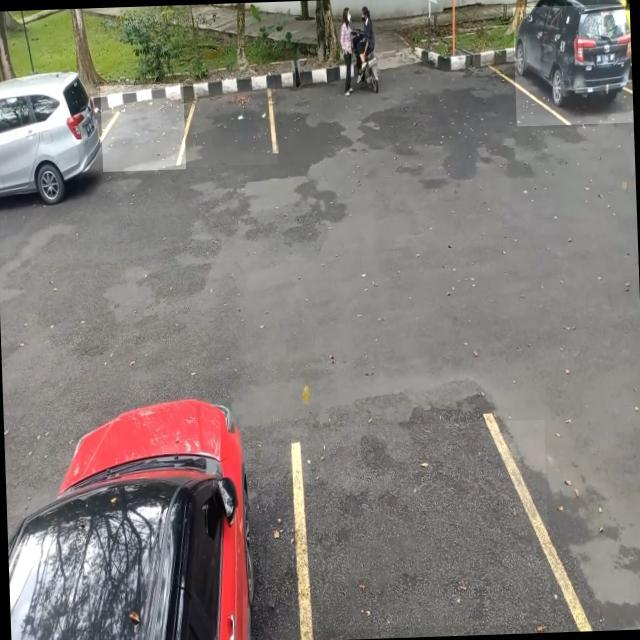empty: (290, 419, 550, 631), (183, 76, 278, 166), (100, 82, 186, 172)
occupied: (512, 3, 633, 126)
